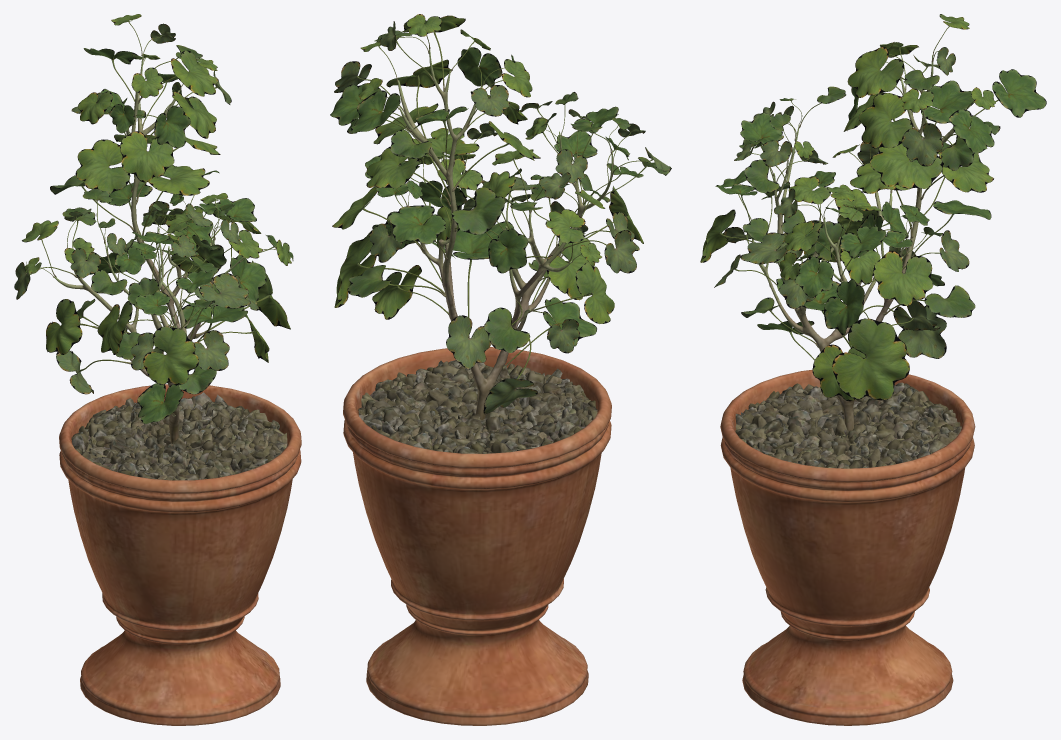
Rendered from potted_plant_01.glb.
3 views of the same model, side by side, from view 1: azimuth 30°, elevation 25°; view 2: azimuth 150°, elevation 25°; view 3: azimuth 270°, elevation 25° (orthographic). The views are drawn at different scales.
Parts seen in each view (by area): view 1: potted_plant_01_pot, potted_plant_01_leaves, potted_plant_01_pebbles, potted_plant_01_stem; view 2: potted_plant_01_pot, potted_plant_01_leaves, potted_plant_01_pebbles, potted_plant_01_stem; view 3: potted_plant_01_pot, potted_plant_01_leaves, potted_plant_01_pebbles, potted_plant_01_stem.
Boxes of the visible parts, x1=… form: potted_plant_01_pot: x1=59, y1=384, x2=301, y2=725; potted_plant_01_leaves: x1=14, y1=14, x2=293, y2=423; potted_plant_01_pebbles: x1=71, y1=392, x2=287, y2=480; potted_plant_01_stem: x1=53, y1=54, x2=244, y2=443; potted_plant_01_pot: x1=343, y1=347, x2=611, y2=725; potted_plant_01_leaves: x1=330, y1=14, x2=671, y2=414; potted_plant_01_pebbles: x1=358, y1=360, x2=597, y2=453; potted_plant_01_stem: x1=397, y1=49, x2=612, y2=420; potted_plant_01_pot: x1=720, y1=369, x2=975, y2=725; potted_plant_01_leaves: x1=700, y1=14, x2=1046, y2=401; potted_plant_01_pebbles: x1=735, y1=382, x2=961, y2=468; potted_plant_01_stem: x1=751, y1=55, x2=966, y2=431.
Size of the model in its own units: 0.5874 by 1.34 by 0.6336.
Materials: 2 (2 with a texture image).
